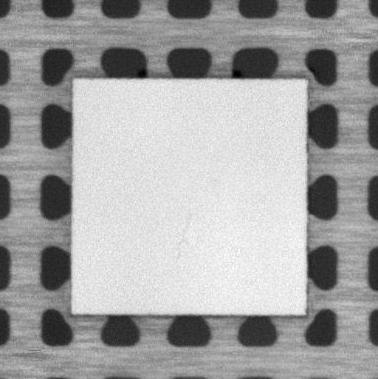DIE_CRACK: (172, 208, 192, 263)
